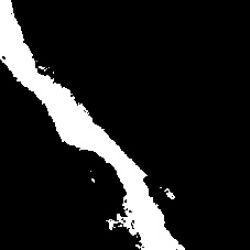crack: (2, 3, 184, 247)
